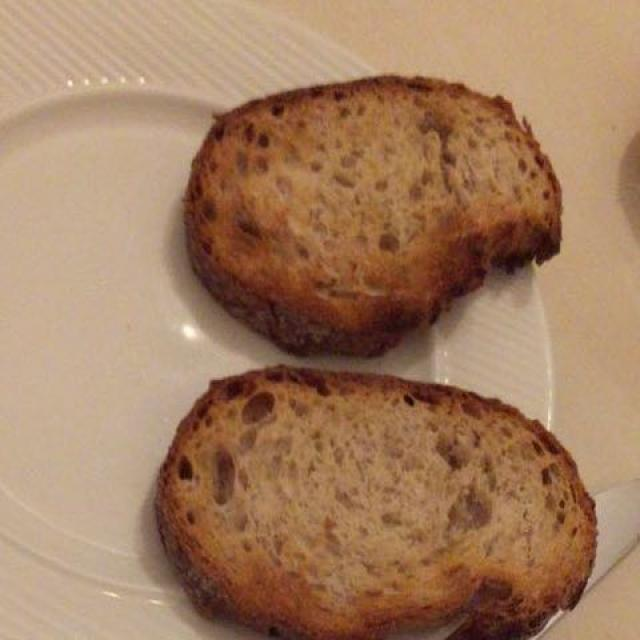bread: (168, 69, 608, 632)
